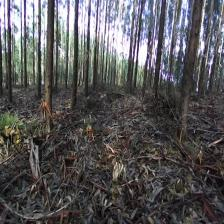trunk: (176, 5, 202, 133), (42, 2, 54, 129), (152, 4, 166, 93), (70, 2, 78, 108), (133, 28, 141, 87), (84, 25, 90, 97), (7, 11, 11, 103), (23, 22, 27, 87), (37, 37, 41, 98)
